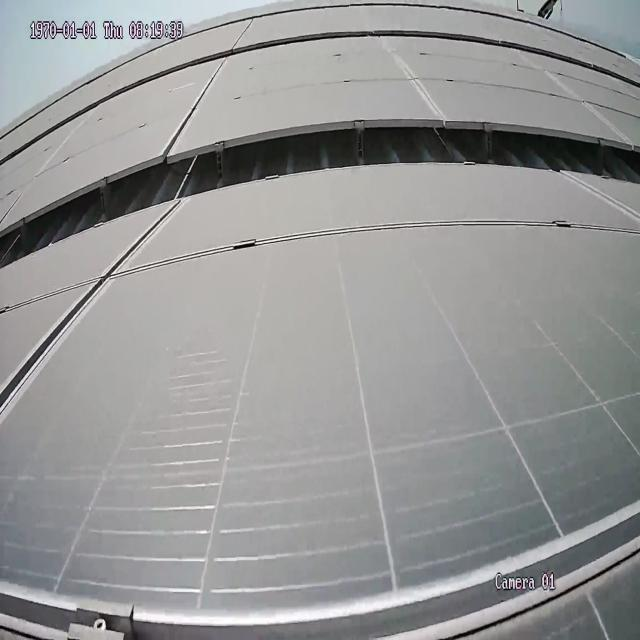interior panel: (1, 208, 634, 427), (0, 485, 640, 640), (162, 62, 232, 152), (380, 45, 446, 112)
outher panel: (5, 120, 640, 271)
